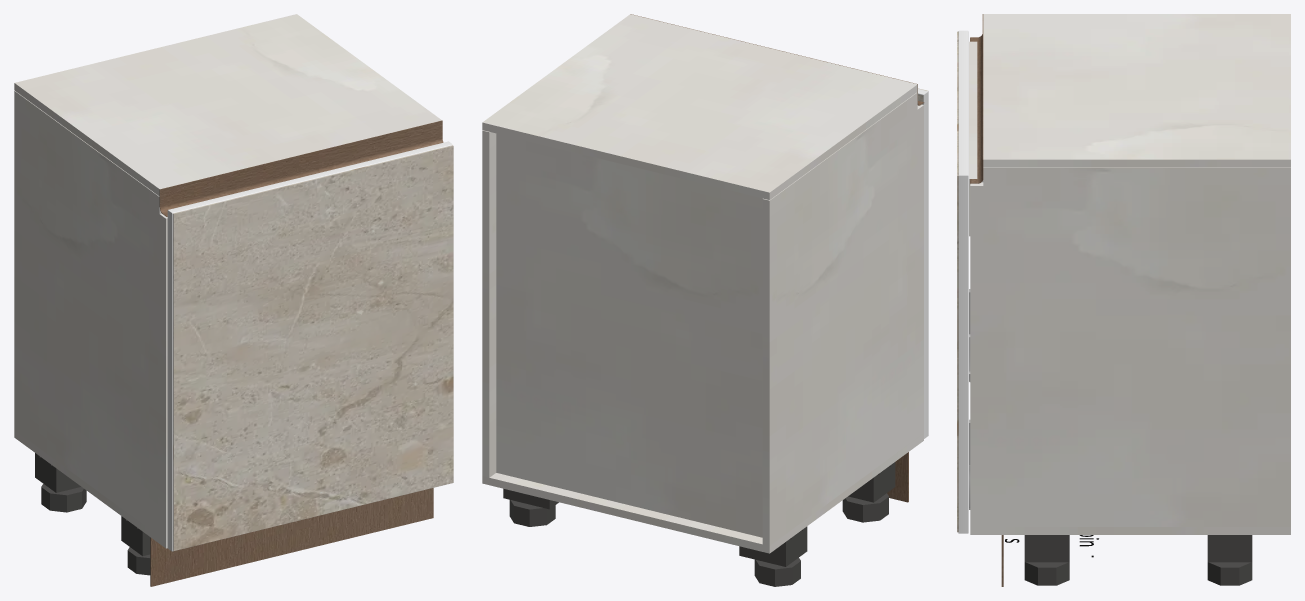
3 views of the same model, side by side, from view 1: azimuth 30°, elevation 25°; view 2: azimuth 150°, elevation 25°; view 3: azimuth 270°, elevation 25° (orthographic). The views are drawn at different scales.
Size of what is drawn, in the model's own units: 0.6 by 0.82 by 0.5809.
Materials: 8 (3 with a texture image).
